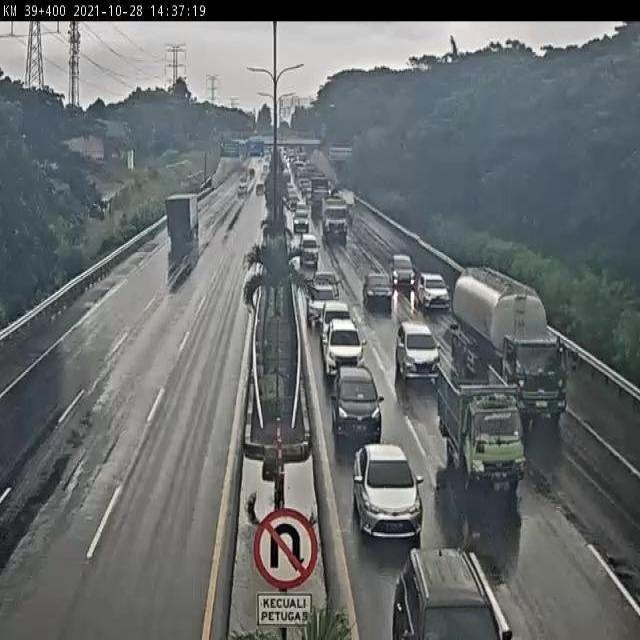Car: (391, 544, 507, 640), (351, 440, 430, 547), (332, 364, 388, 449), (393, 322, 443, 381), (322, 318, 368, 371), (418, 272, 452, 312), (307, 285, 337, 328), (363, 272, 394, 311), (321, 301, 351, 341), (390, 251, 416, 289), (297, 232, 321, 273), (292, 208, 312, 238)
Truck: (452, 264, 572, 419), (436, 359, 528, 488), (164, 191, 202, 246), (322, 199, 349, 245)
